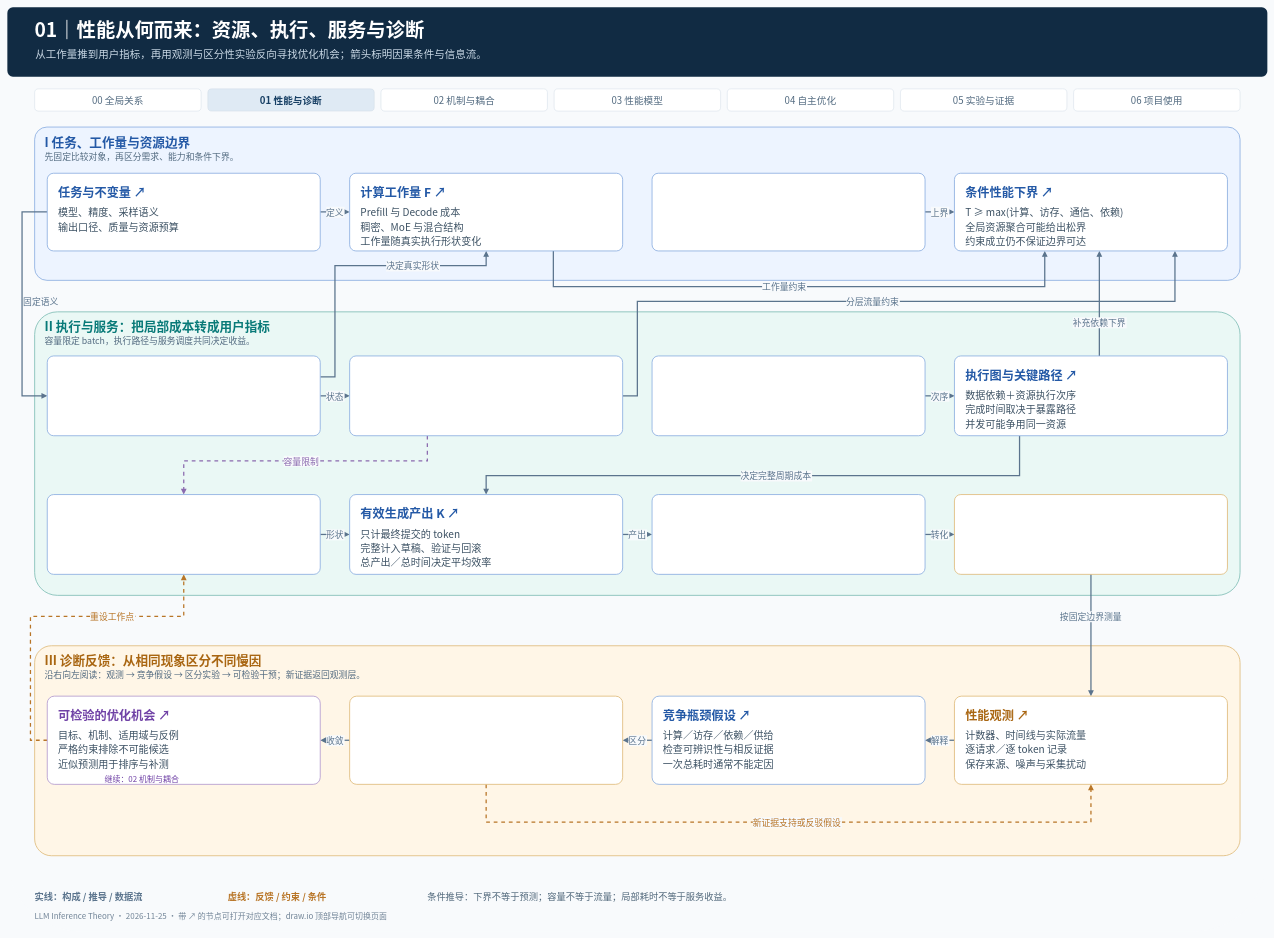
The diagram is 1274 pixels wide and 938 high, and some of its shapes have lost their labels. The centre of each missing label's shape, as x and y in pixels:
Batch 与上下文 ↗ 容量限定可行 batch 形状改变复用和算术强度 扩 batch 的边际收益会减小: (x=183, y=534)
动态服务过程 ↗ 到达、调度、缓存与排队 Prefill–Decode 和状态驻留 同一局部优化依赖负载条件: (x=788, y=534)
区分性实验 ↗ 受控干预、计数器与形状扫描 优先区分竞争解释 记录新增开销与测量边界: (x=486, y=740)
工作负载 ↗ 到达、输入与实际输出长度 前缀复用及变量间的关联 平均值不能代替联合分布: (x=183, y=395)
并行与通信 ↗ TP／EP／PP／CP／DP 拓扑、慢 rank 与通信重叠 固定总卡数时也重算副本数: (x=788, y=395)
流量与状态 D、M ↗ 权重、状态与中间数据 跨层搬运量 ≠ 驻留容量 复用与恢复也有机会成本: (x=486, y=395)
用户可见指标 ↗ TTFT、TPOT 与尾延迟 完成吞吐 ≠ 饱和处理容量 Goodput 要求质量与 SLO 联合达标: (x=1091, y=534)
资源能力与计量口径 ↗ 算力、分层带宽、通信链路 能力上界用于条件下界 有效速率用于校准预测: (x=788, y=212)
